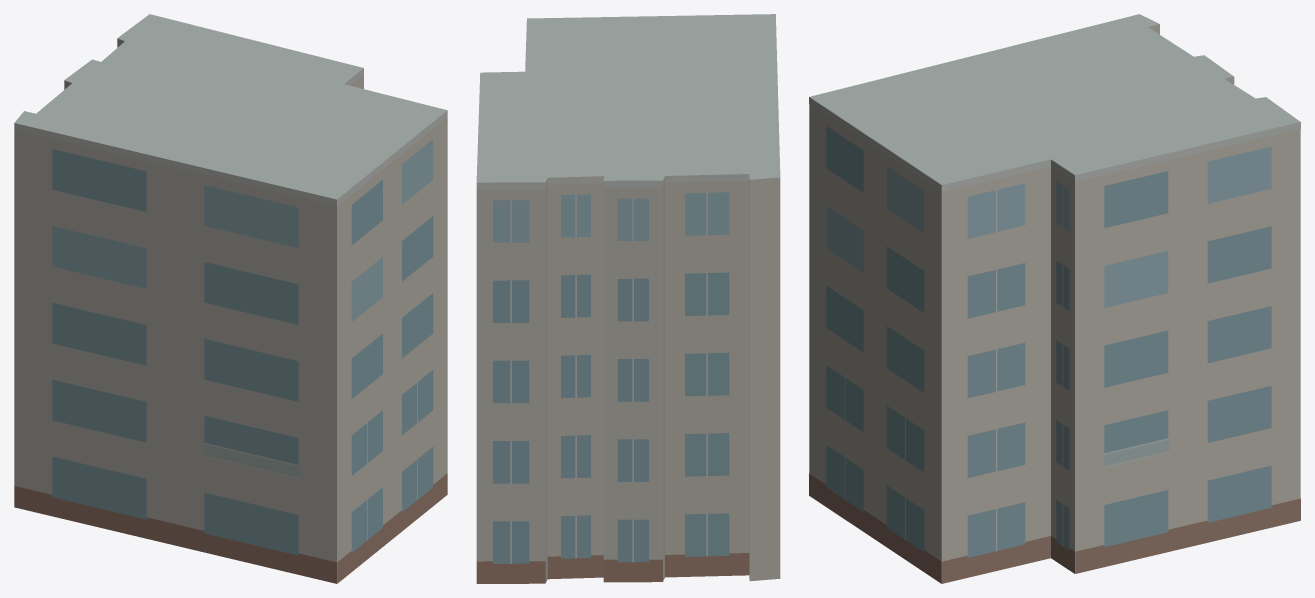
Rendered from survey-upis-32956552.glb.
3 renders of one model, left to right at view 1: azimuth 30°, elevation 25°; view 2: azimuth 150°, elevation 25°; view 3: azimuth 270°, elevation 25°, orthographic. The views are drawn at different scales.
Parts seen in each view (by area): view 1: survey-upis-32956552.tmp; view 2: survey-upis-32956552.tmp; view 3: survey-upis-32956552.tmp.
Part boxes in pixels (x1=…): survey-upis-32956552.tmp: x1=14, y1=14, x2=447, y2=583; survey-upis-32956552.tmp: x1=476, y1=14, x2=780, y2=583; survey-upis-32956552.tmp: x1=809, y1=14, x2=1300, y2=583.
Bounding box in the file's own units: 12.88 × 13.98 × 15.63.
